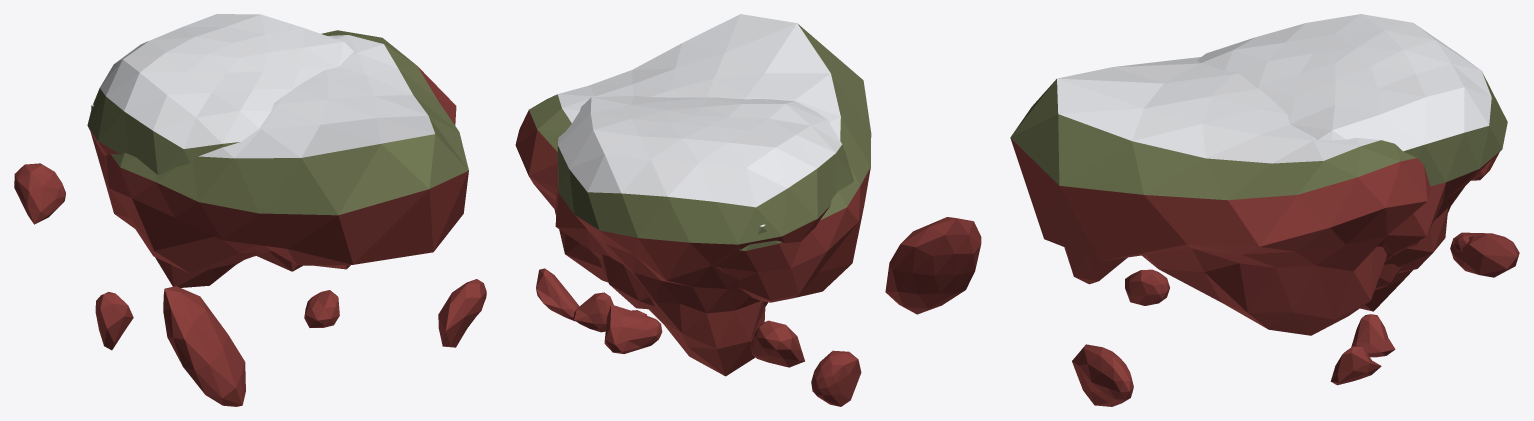
The model's file is Island 2.fbx.
3 renders of one model, left to right at view 1: azimuth 30°, elevation 25°; view 2: azimuth 150°, elevation 25°; view 3: azimuth 270°, elevation 25°, orthographic. The views are drawn at different scales.
Visible parts, largest first — view 1: Island 2, Island 1; view 2: Island 1, Island 2; view 3: Island 2, Island 1.
Part boxes in pixels (x1,y1,x2,y2): Island 2: [90, 30, 486, 406]; Island 1: [14, 14, 353, 350]; Island 1: [555, 95, 861, 406]; Island 2: [515, 14, 981, 321]; Island 2: [1010, 57, 1471, 406]; Island 1: [1125, 14, 1519, 357].
Size of the model in its own units: 2888 by 1993 by 3089.
